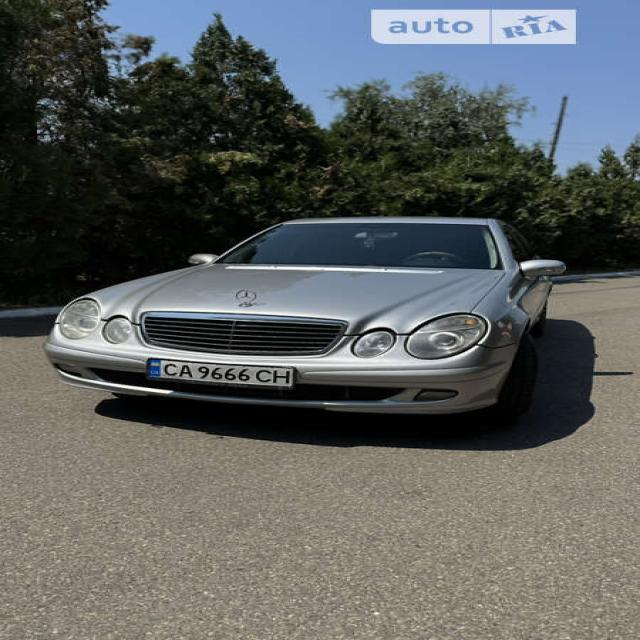plate: (144, 352, 306, 396)
